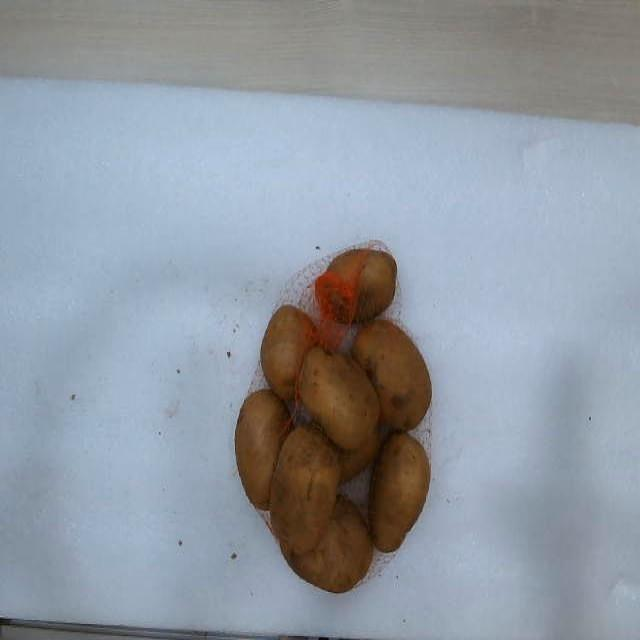potato: (270, 425, 341, 554), (352, 318, 431, 430), (281, 495, 372, 592), (301, 347, 380, 450), (369, 432, 430, 552), (235, 390, 291, 509), (315, 248, 396, 323), (261, 305, 316, 400)
